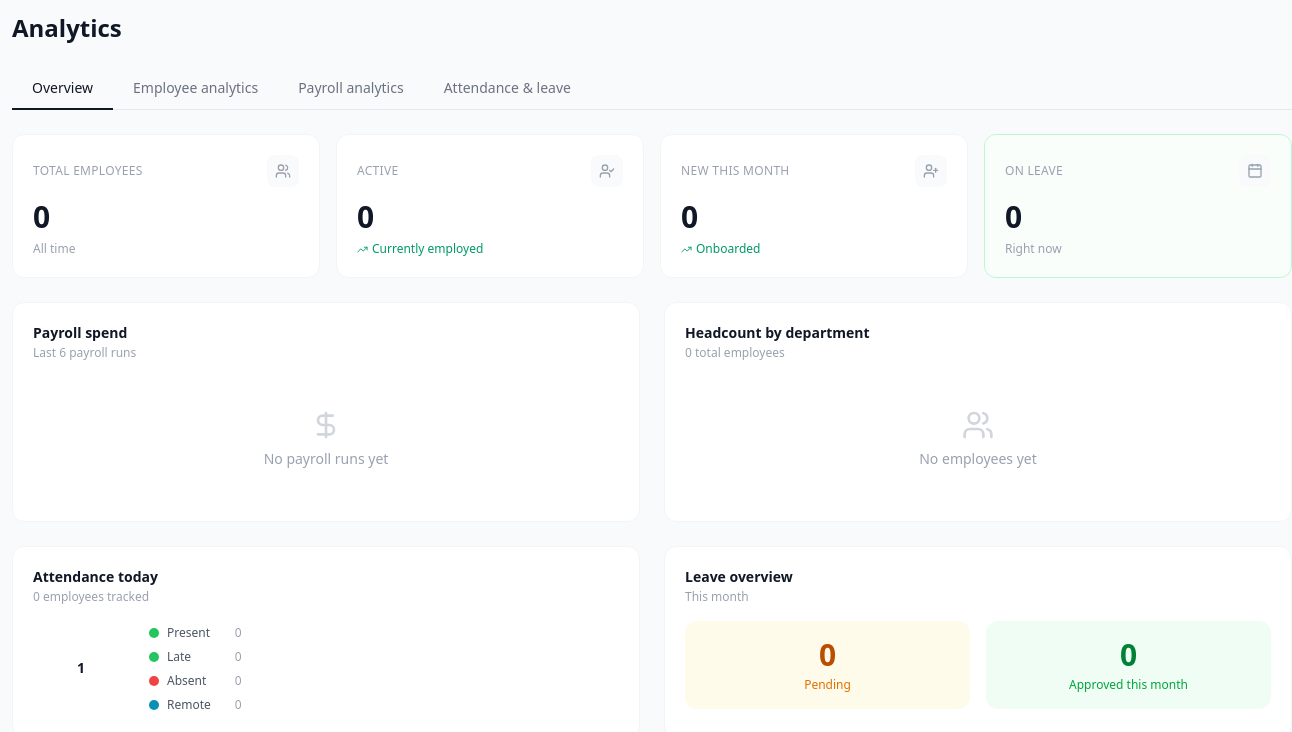
it: Analytics page › clicking "Employee analytics" tab shows "Employment type" or "New hires" section
Step 1. Click the button "Employee analytics" → (196, 89), box left=113, top=68, right=278, bottom=110
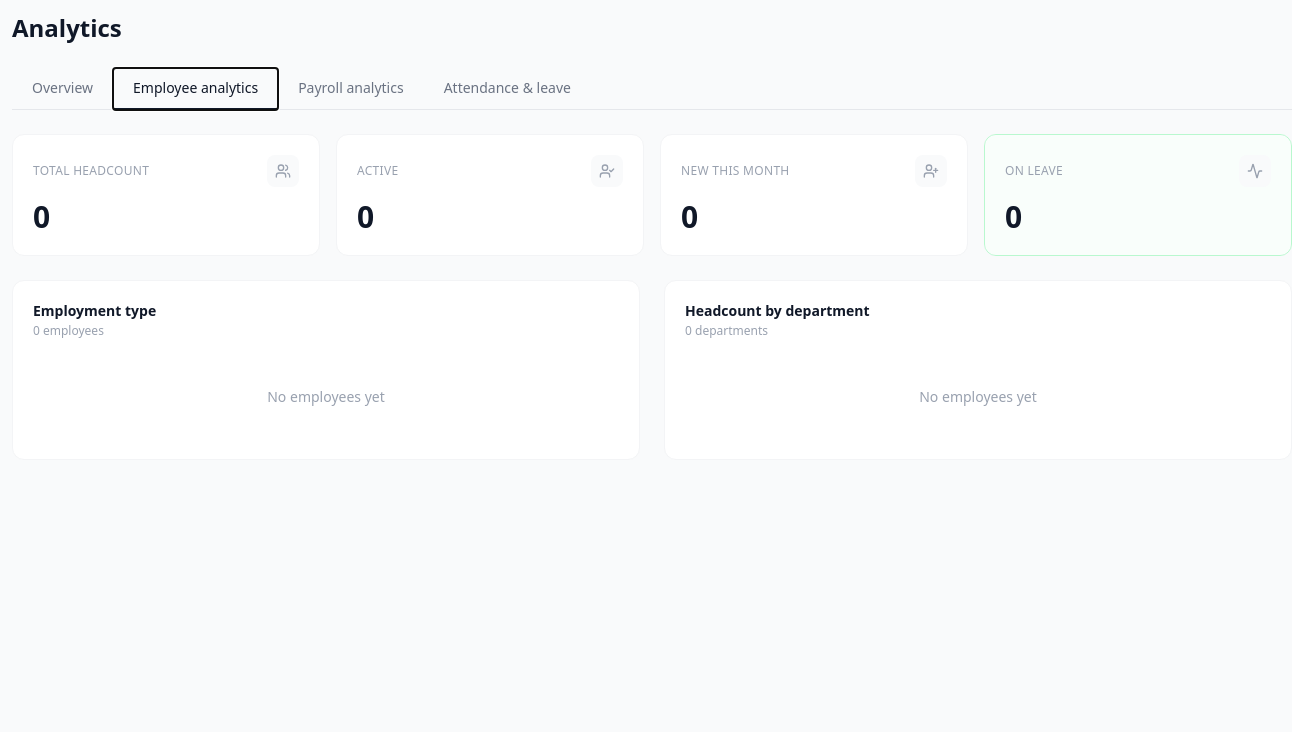
Now the heading "Employment type" is shown, box left=33, top=301, right=156, bottom=320
